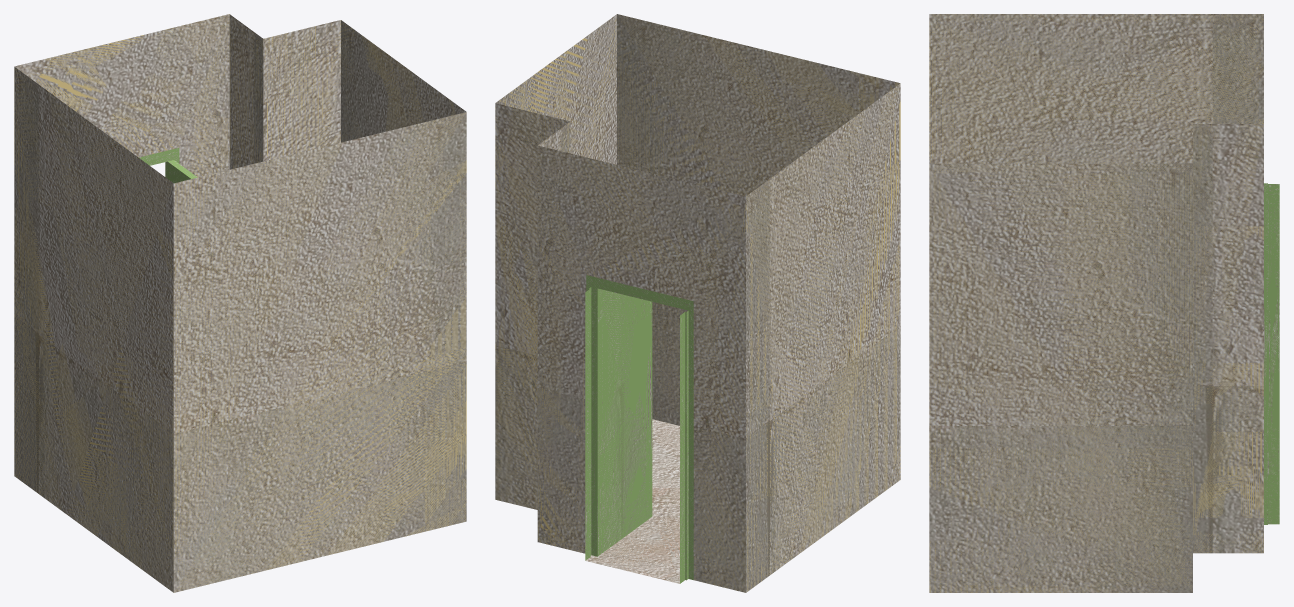
Rendered from CUA002.obj.
The picture shows the model from 3 angles, left to right: view 1: azimuth 30°, elevation 25°; view 2: azimuth 150°, elevation 25°; view 3: azimuth 270°, elevation 25°; orthographic projection. The views are drawn at different scales.
Visible parts, largest first — view 1: Mesh1 CUA002 Model; view 2: Mesh1 CUA002 Model; view 3: Mesh1 CUA002 Model.
Boxes of the visible parts, x1=… form: Mesh1 CUA002 Model: x1=14, y1=14, x2=466, y2=592; Mesh1 CUA002 Model: x1=495, y1=14, x2=900, y2=592; Mesh1 CUA002 Model: x1=929, y1=14, x2=1279, y2=592.
Size of the model in its own units: 2.25 by 3 by 2.22.
4 materials, 2 textured.
